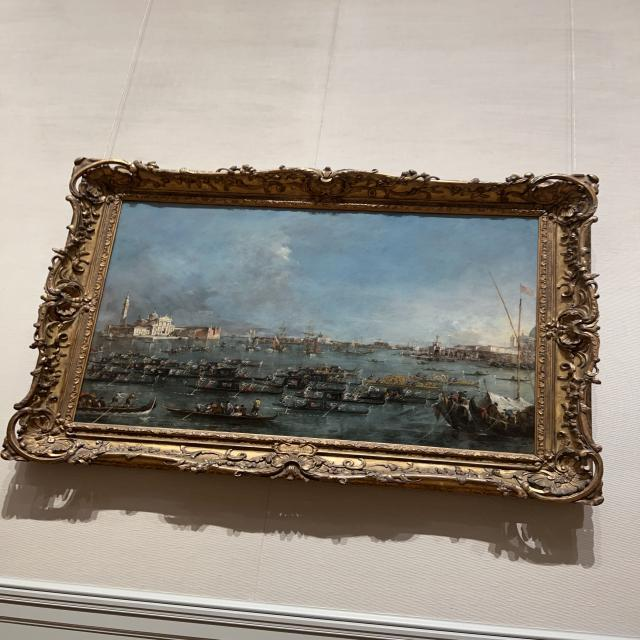ships: (73, 199, 538, 454)
